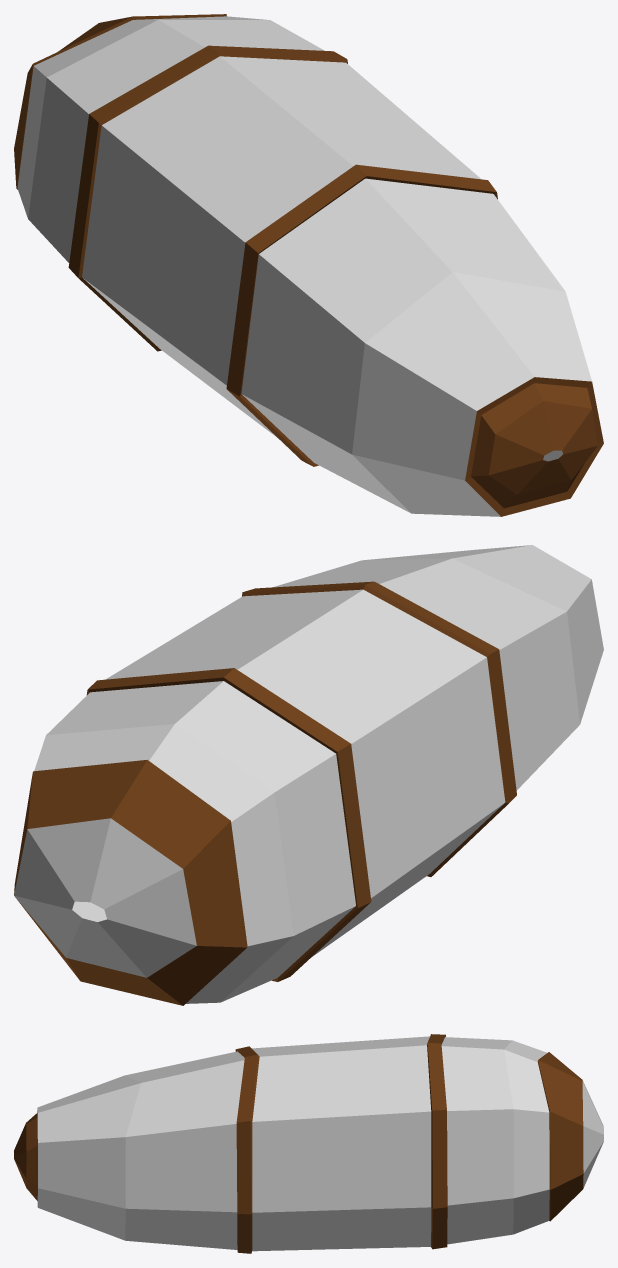
File: blimp.fbx
The picture shows the model from 3 angles, top to bottom: view 1: azimuth 30°, elevation 25°; view 2: azimuth 150°, elevation 25°; view 3: azimuth 270°, elevation 25°; orthographic projection. The views are drawn at different scales.
Visible parts, largest first — view 1: blimp; view 2: blimp; view 3: blimp.
Part boxes in pixels (left/top/right/bottom): blimp: left=14, top=14, right=603, bottom=516; blimp: left=14, top=545, right=603, bottom=1005; blimp: left=14, top=1034, right=603, bottom=1253.
Size of the model in its own units: 1682 by 1623 by 4617.
